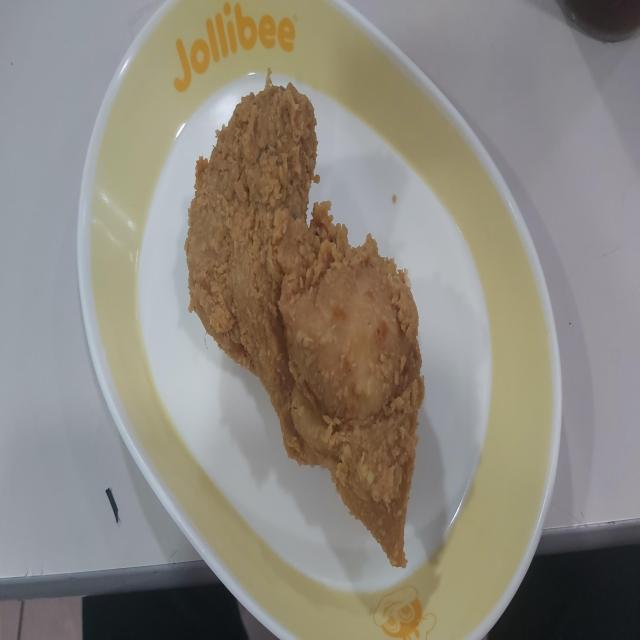Chicken -Fried Chicken-: (159, 100, 477, 590)
